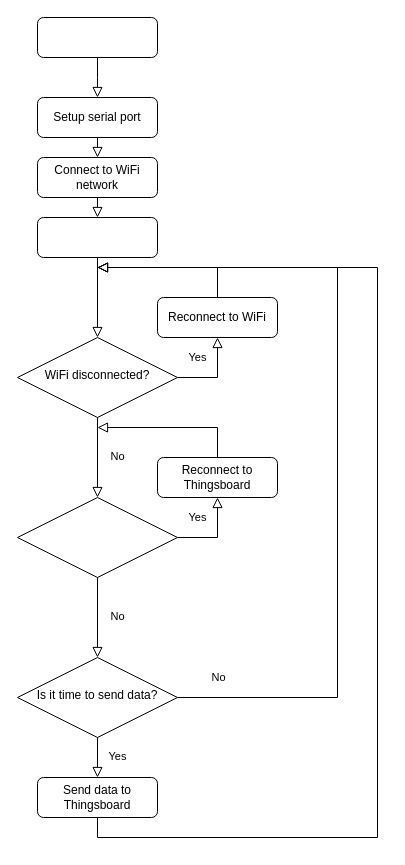
This 405x865 diagram has some shape labels left out. Here are the shapes that lost their labels. From the top down, the centre of each, then its label:
[97,37]: Start
[97,237]: Initialize water flow sensor
[97,537]: Not connected to Thingsboard?
